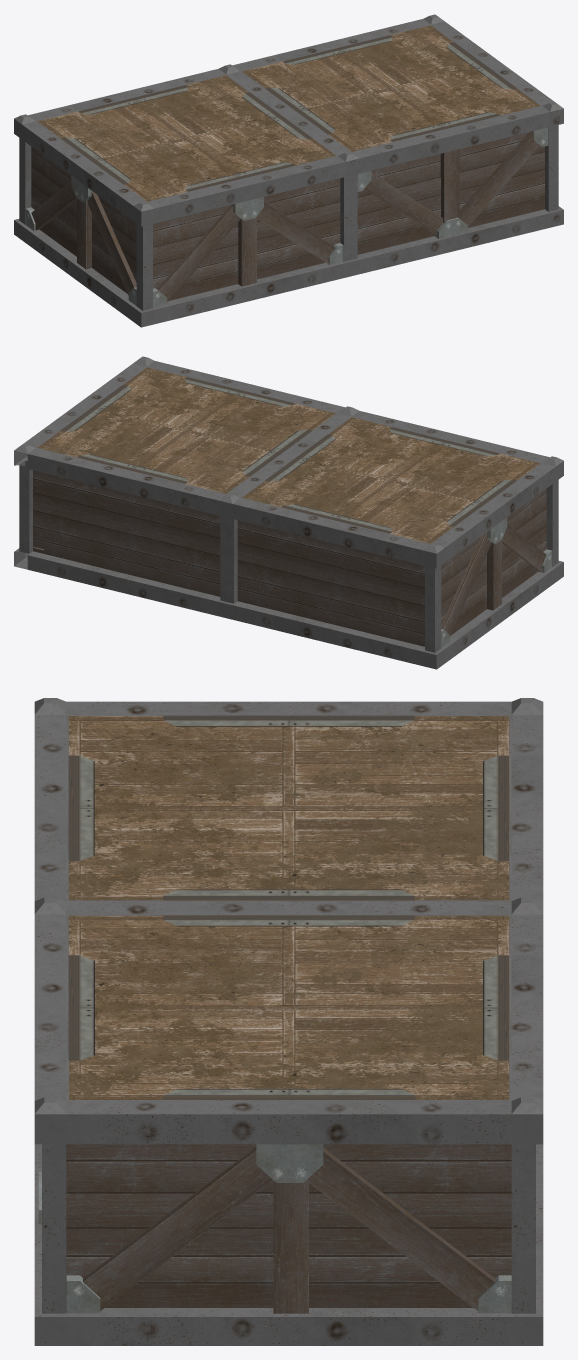
The model's file is Ob_Crates3_RC.fbx.
3 renders of one model, top to bottom at view 1: azimuth 30°, elevation 25°; view 2: azimuth 150°, elevation 25°; view 3: azimuth 270°, elevation 25°, orthographic. The views are drawn at different scales.
Visible parts, largest first — view 1: Ob_Crates3_RC; view 2: Ob_Crates3_RC; view 3: Ob_Crates3_RC.
Boxes of the visible parts, bbox=[...] form: Ob_Crates3_RC: bbox=[14, 14, 563, 327]; Ob_Crates3_RC: bbox=[14, 356, 563, 669]; Ob_Crates3_RC: bbox=[34, 698, 543, 1345].
Bounding box in the file's own units: 1720 × 465 × 896.
